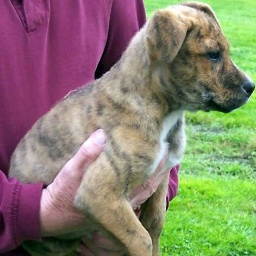dog: (13, 4, 250, 247)
